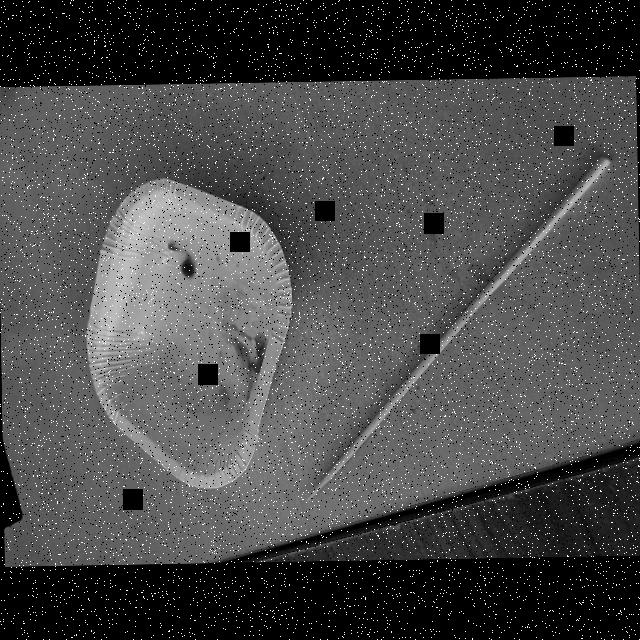cardboard_bowl: (78, 173, 302, 488)
stick: (294, 151, 626, 504)
